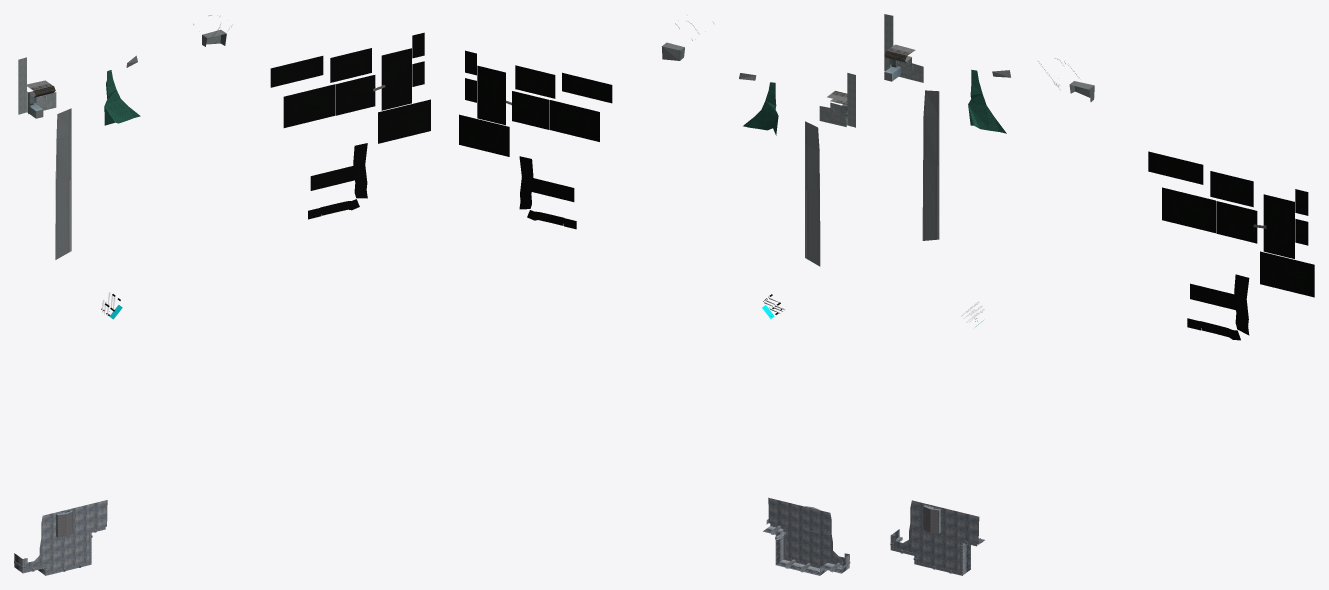
File: industse_industse__part_12.obj
The picture shows the model from 3 angles, left to right: view 1: azimuth 30°, elevation 25°; view 2: azimuth 150°, elevation 25°; view 3: azimuth 330°, elevation 25°; orthographic projection. The views are drawn at different scales.
Parts seen in each view (by area): view 1: industse_industse__part_12; view 2: industse_industse__part_12; view 3: industse_industse__part_12.
Part boxes in pixels (x1,y1,x2,y2): industse_industse__part_12: (14, 15, 430, 575); industse_industse__part_12: (459, 21, 855, 575); industse_industse__part_12: (884, 14, 1314, 575).
Size of the model in its own units: 545 by 673 by 55.74.
34 materials, 34 textured.
